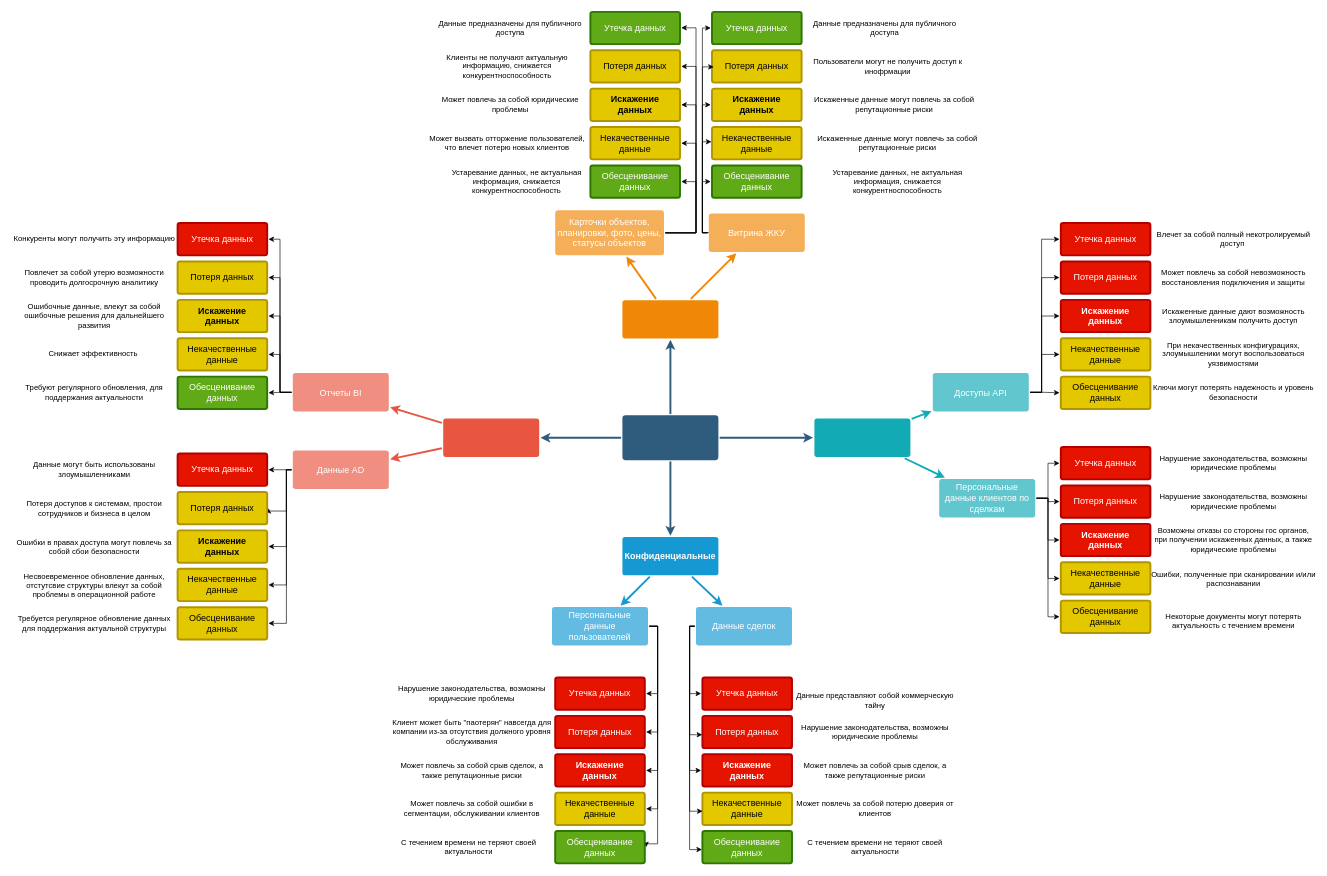
Some shapes in this 1327 by 876 pixel diagram are drawn without their labels. Each missing label, with the box of its shape:
Безопасность данных: (622, 415, 718, 460)
Внутренние: (443, 418, 539, 457)
Публичные: (622, 300, 718, 338)
Секретные: (814, 418, 910, 457)
